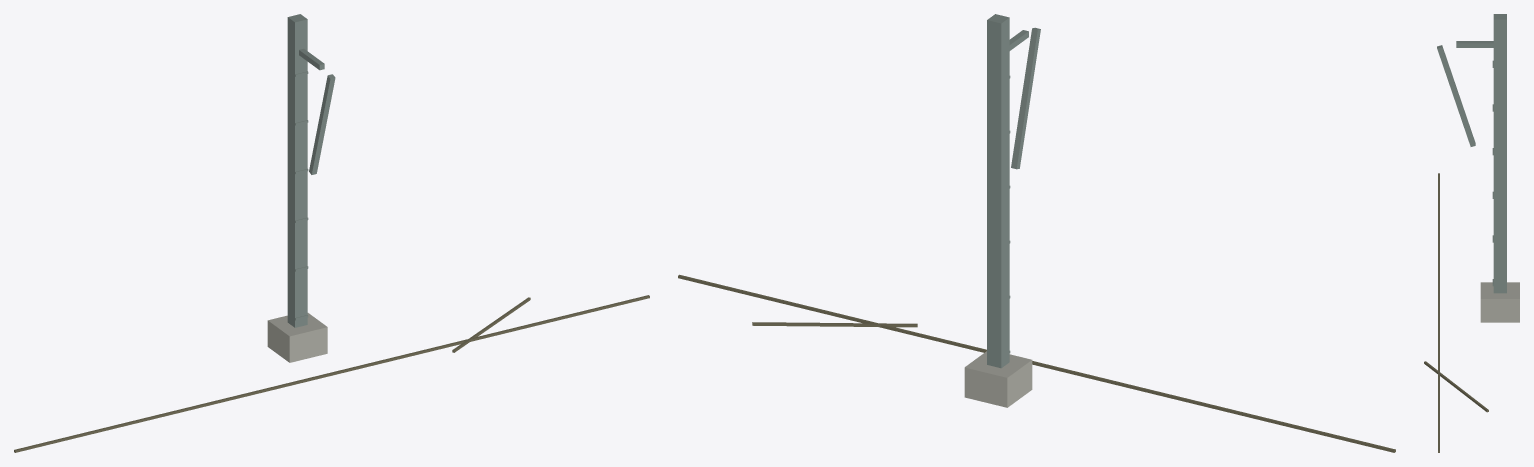
The model's file is SM_CatenariaCaida_v1_MensulaRota_LOD0.fbx.
3 views of the same model, side by side, from view 1: azimuth 30°, elevation 25°; view 2: azimuth 150°, elevation 25°; view 3: azimuth 270°, elevation 25° (orthographic). The views are drawn at different scales.
Visible parts, largest first — view 1: SM_aqui_paso_algo_v11_LOD0; view 2: SM_aqui_paso_algo_v11_LOD0; view 3: SM_aqui_paso_algo_v11_LOD0.
Boxes of the visible parts, x1,y1,x2,y2 form: SM_aqui_paso_algo_v11_LOD0: (14, 14, 649, 452); SM_aqui_paso_algo_v11_LOD0: (678, 14, 1395, 452); SM_aqui_paso_algo_v11_LOD0: (1424, 14, 1519, 452).
Bounding box in the file's own units: 15 × 7.5 × 2.19.
